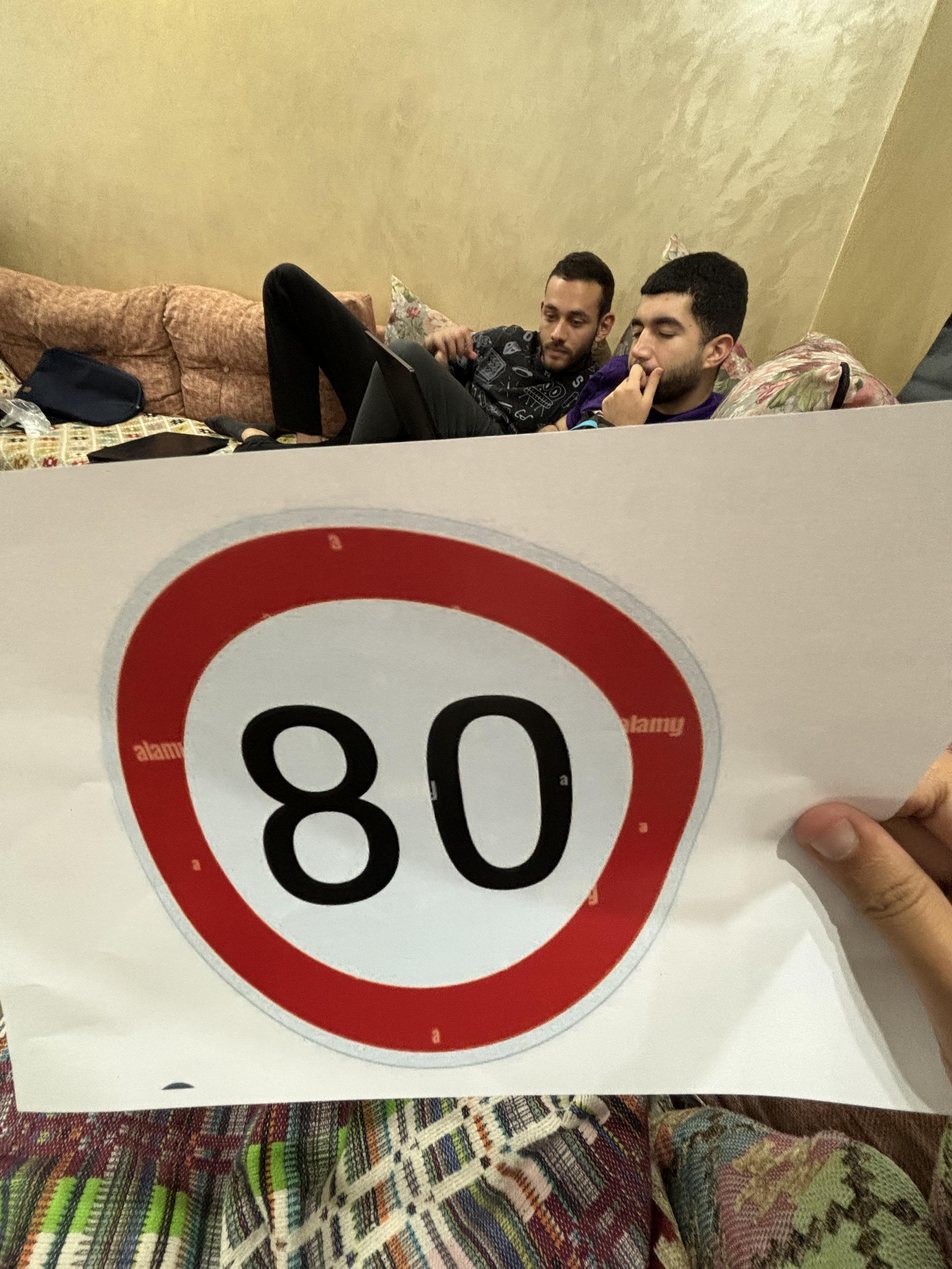80-Speed: (95, 495, 724, 1064)
